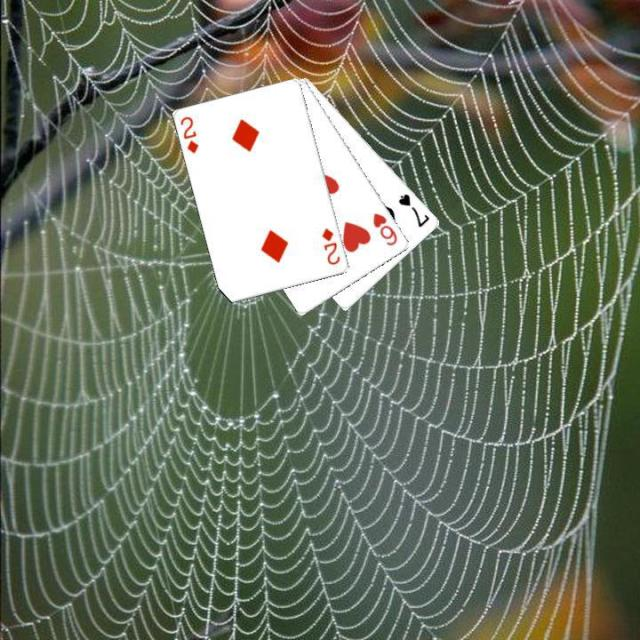2D: (318, 224, 342, 267), (177, 113, 201, 155)
6H: (369, 209, 399, 248)
7S: (395, 190, 432, 230)
